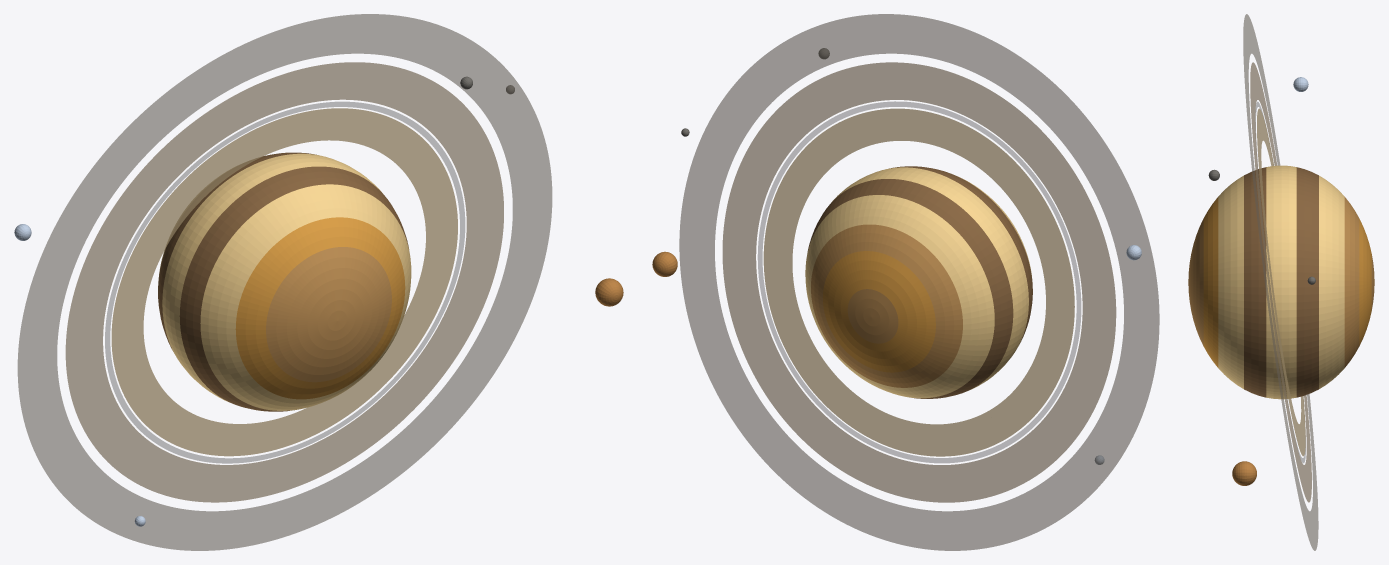
3 renders of one model, left to right at view 1: azimuth 30°, elevation 25°; view 2: azimuth 150°, elevation 25°; view 3: azimuth 270°, elevation 25°, orthographic. The views are drawn at different scales.
Visible parts, largest first — view 1: saturn_moons_space; view 2: saturn_moons_space; view 3: saturn_moons_space.
Part boxes in pixels (x1,y1,x2,y2): saturn_moons_space: [14, 14, 623, 550]; saturn_moons_space: [652, 14, 1159, 550]; saturn_moons_space: [1188, 14, 1374, 550].
Size of the model in its own units: 5.46 by 4.95 by 1.72.
